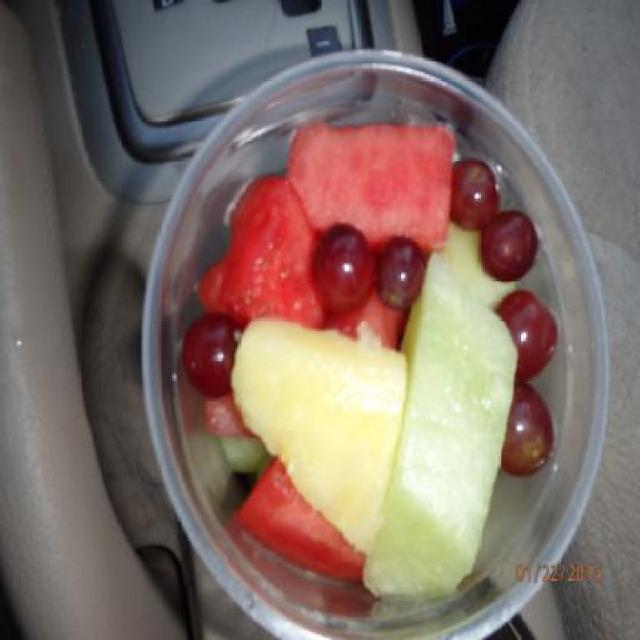Watermelon: (286, 127, 459, 256), (197, 166, 323, 332), (226, 454, 377, 592), (319, 285, 421, 350), (205, 396, 264, 436)
